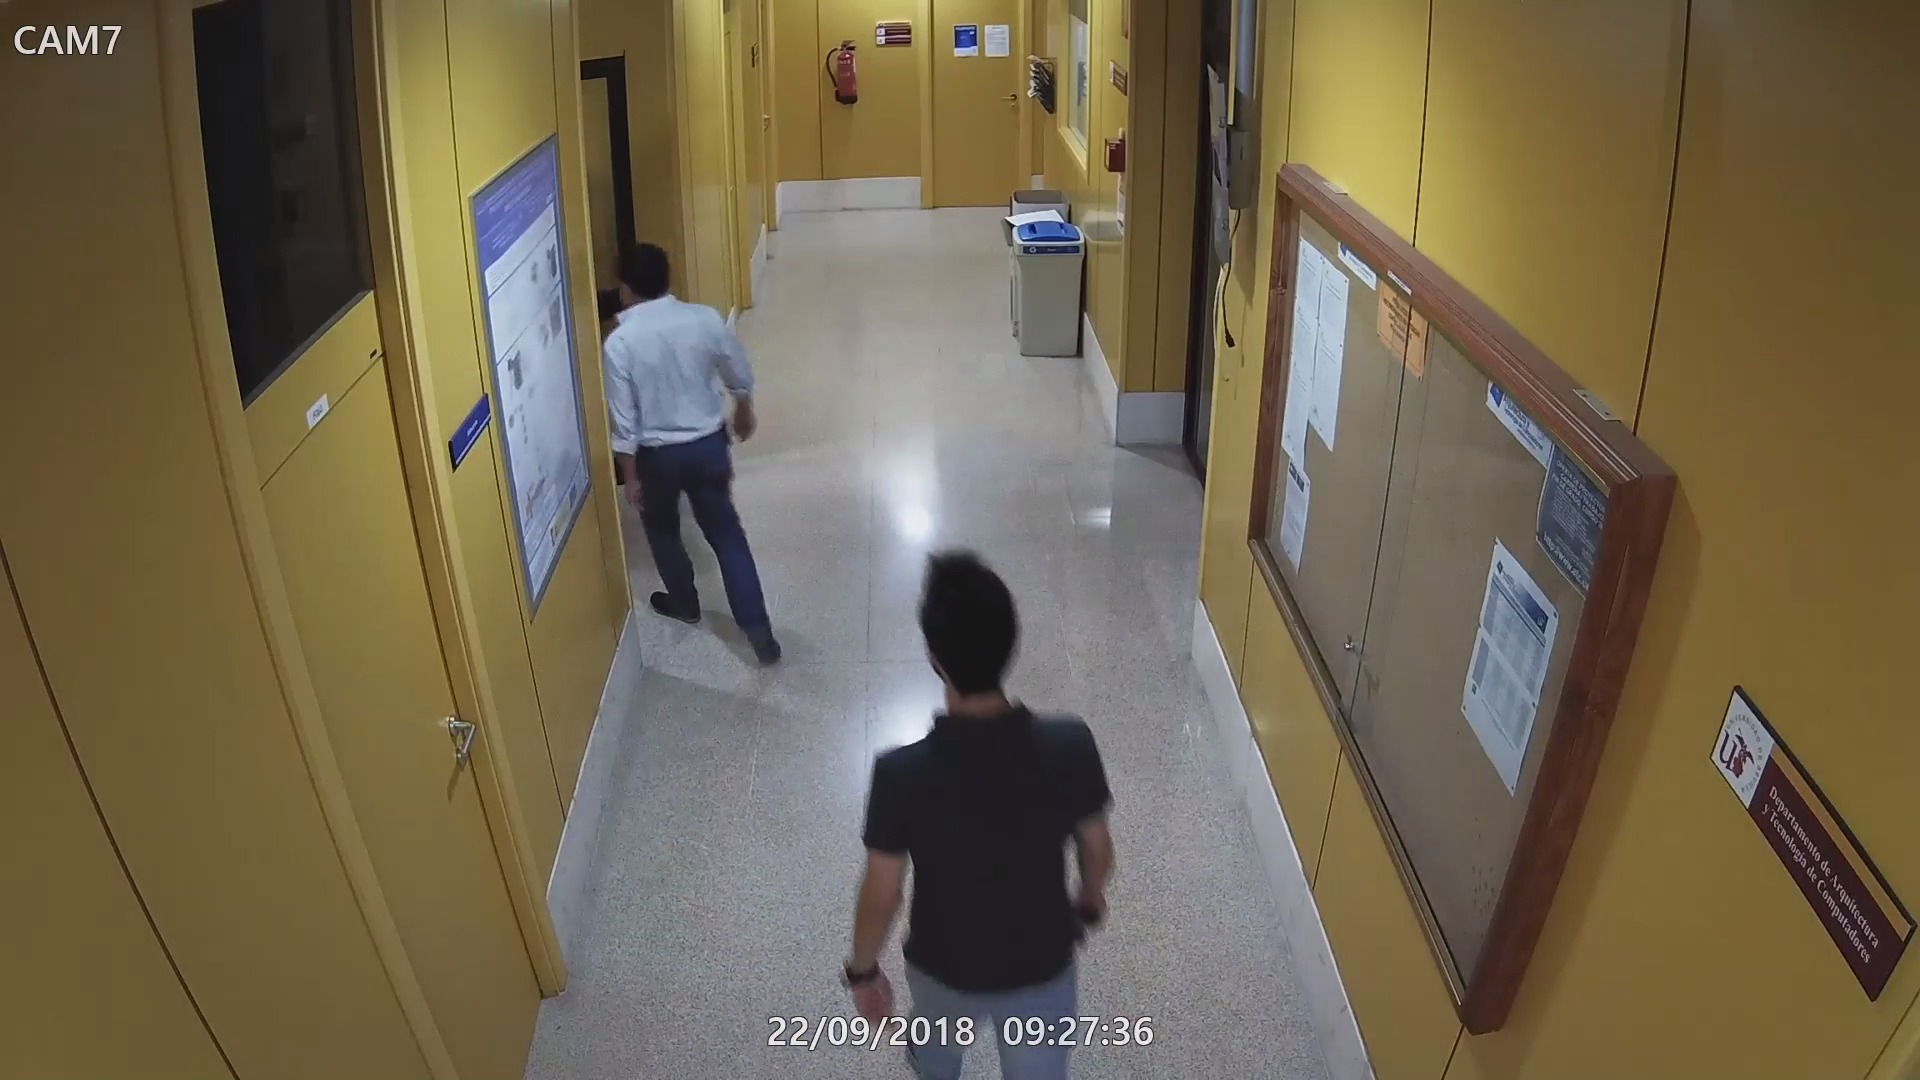Handgun: (1071, 894, 1104, 947)
